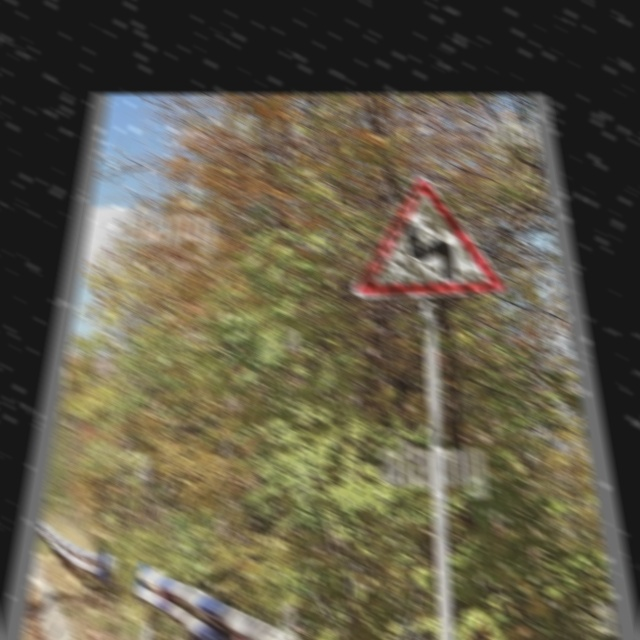Left_Reverse_Bend: (363, 185, 496, 293)
